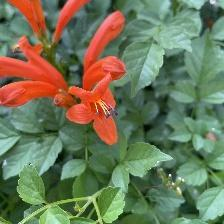honeysuckle: (63, 80, 129, 145)
